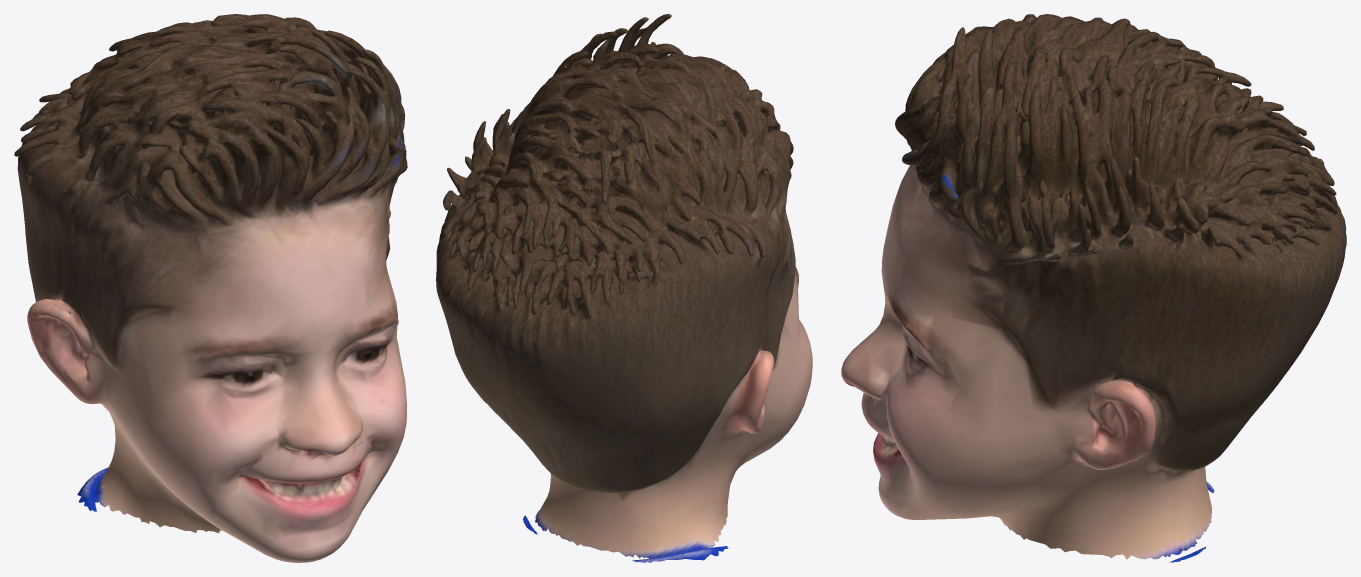
The model's file is ArthurHead.glb.
The picture shows the model from 3 angles, left to right: view 1: azimuth 30°, elevation 25°; view 2: azimuth 150°, elevation 25°; view 3: azimuth 270°, elevation 25°; orthographic projection. The views are drawn at different scales.
Parts seen in each view (by area): view 1: Mesh_0; view 2: Mesh_0; view 3: Mesh_0.
Part boxes in pixels (bbox=[...]): Mesh_0: bbox=[14, 14, 407, 562]; Mesh_0: bbox=[436, 14, 812, 562]; Mesh_0: bbox=[841, 14, 1346, 562].
Bounding box in the file's own units: 0.2957 × 0.406 × 0.3653.
1 material, 1 textured.
